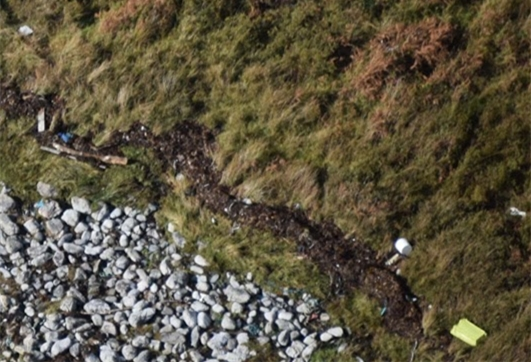scattered_barrel: (376, 228, 499, 350), (23, 93, 148, 172)
straight_bar: (49, 141, 132, 169)
white_in_green: (435, 298, 503, 361), (6, 8, 48, 51)
